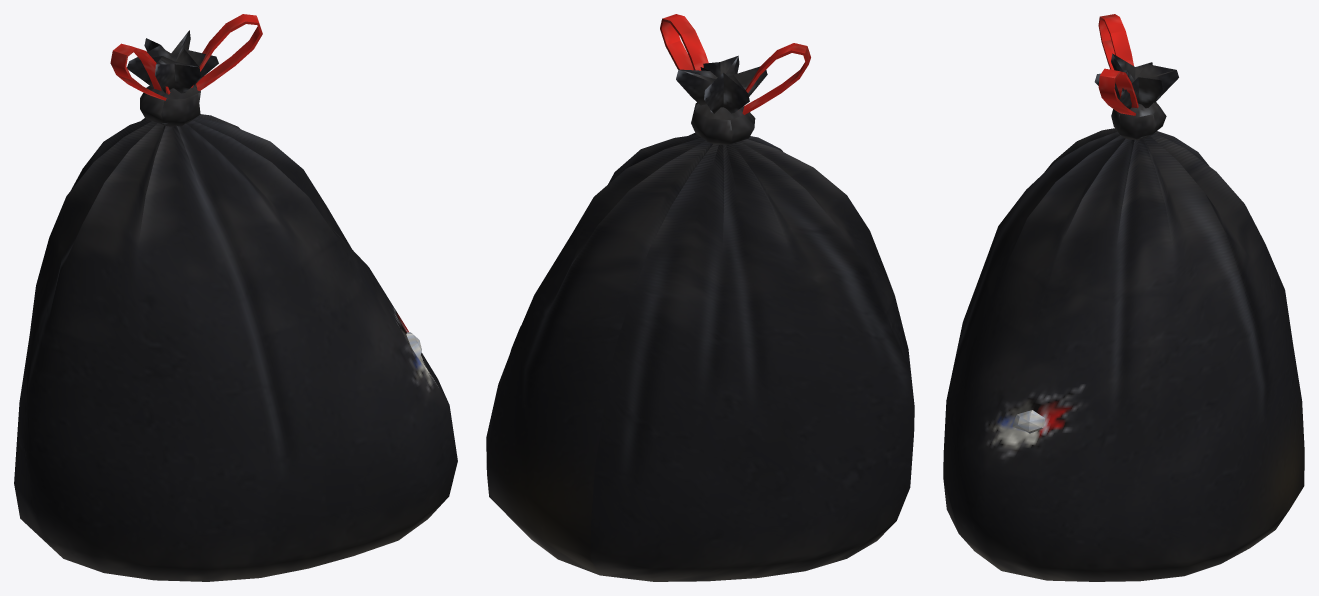
The model's file is SM_Motel_TrashBag.glb.
3 views of the same model, side by side, from view 1: azimuth 30°, elevation 25°; view 2: azimuth 150°, elevation 25°; view 3: azimuth 270°, elevation 25° (orthographic). The views are drawn at different scales.
Parts seen in each view (by area): view 1: SM_Motel_TrashBag; view 2: SM_Motel_TrashBag; view 3: SM_Motel_TrashBag.
Part boxes in pixels (x1,y1,x2,y2): SM_Motel_TrashBag: (14,14,457,581); SM_Motel_TrashBag: (486,14,914,581); SM_Motel_TrashBag: (943,14,1304,581).
Size of what is drawn, in the model's own units: 0.4858 by 0.568 by 0.4173.
Materials: 1 (1 with a texture image).
